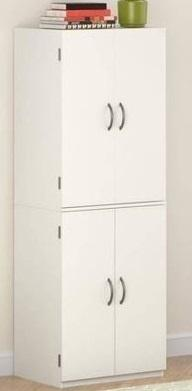cabinet_door: (62, 213, 112, 374), (115, 35, 163, 201), (64, 46, 114, 204), (116, 213, 163, 372)
handle: (116, 100, 128, 134), (104, 100, 115, 134), (119, 274, 126, 308), (107, 276, 113, 309)
